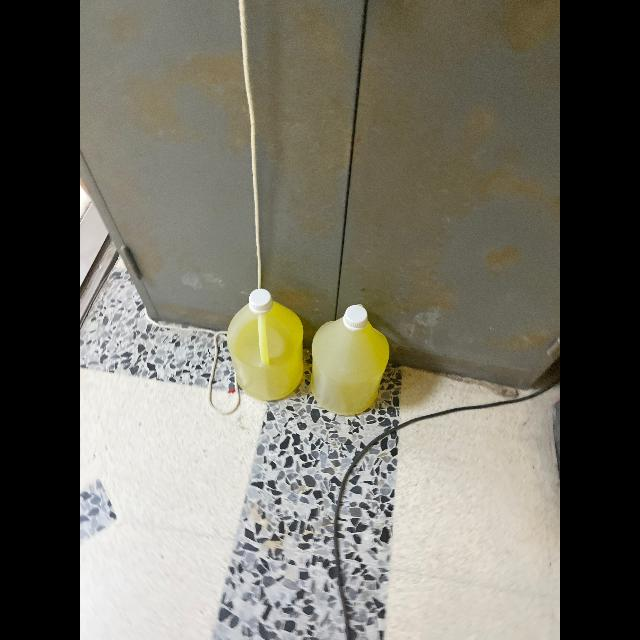chemical_plastic_gallon: (306, 300, 396, 418), (225, 290, 301, 404)
